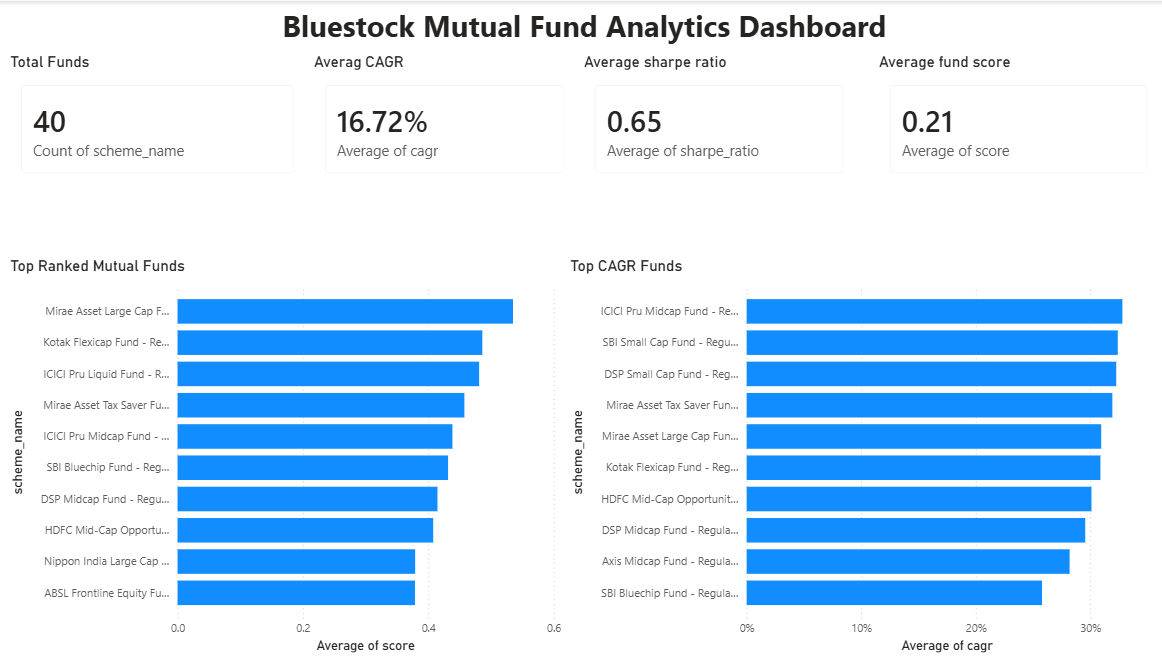

What the dashboard file says about the page in this screenshot:
{"tool":"powerbi","page":{"name":"Executive Overview","canvas":[1280,720],"ordinal":0},"visuals":[{"type":"textbox","box":[9.6,0,1270.7,56.3],"z":0},{"type":"cardVisual","title":"Total Funds","fields":{"Data":["CountNonNull(fund_analytics_final.scheme_name)"]},"box":[9.6,56.3,333.4,150.9],"z":1000},{"type":"cardVisual","title":"Averag CAGR","fields":{"Data":["Avg(fund_analytics_final.cagr)"]},"box":[343.1,56.3,296.4,150.9],"z":2000},{"type":"cardVisual","title":"Average fund score","fields":{"Data":["Avg(fund_analytics_final.score)"]},"box":[963.3,56.3,317,150.9],"z":3000},{"type":"cardVisual","title":"Average sharpe ratio","fields":{"Data":["Avg(fund_analytics_final.sharpe_ratio)"]},"box":[639.5,56.3,307.4,150.9],"z":4000},{"type":"clusteredBarChart","title":"Top Ranked Mutual Funds","fields":{"Category":["fund_analytics_final.scheme_name"],"Y":["Avg(fund_analytics_final.score)"]},"box":[9.6,279.9,614.8,440.5],"z":5000},{"type":"clusteredBarChart","title":"Top CAGR Funds","fields":{"Category":["fund_analytics_final.scheme_name"],"Y":["Avg(fund_analytics_final.cagr)"]},"box":[624.4,279.9,655.9,440.5],"z":6000}]}

Visuals, with their boxes in screenshot pixels (x1, y1, x2, y2), scaled from the page's 1280x720 canvas onto the 1162x657 screenshot:
textbox: {"x1": 9, "y1": 0, "x2": 1161, "y2": 51}
"Total Funds" cardVisual: {"x1": 9, "y1": 51, "x2": 311, "y2": 189}
"Averag CAGR" cardVisual: {"x1": 311, "y1": 51, "x2": 581, "y2": 189}
"Average fund score" cardVisual: {"x1": 874, "y1": 51, "x2": 1161, "y2": 189}
"Average sharpe ratio" cardVisual: {"x1": 581, "y1": 51, "x2": 860, "y2": 189}
"Top Ranked Mutual Funds" clusteredBarChart: {"x1": 9, "y1": 255, "x2": 567, "y2": 656}
"Top CAGR Funds" clusteredBarChart: {"x1": 567, "y1": 255, "x2": 1161, "y2": 656}
